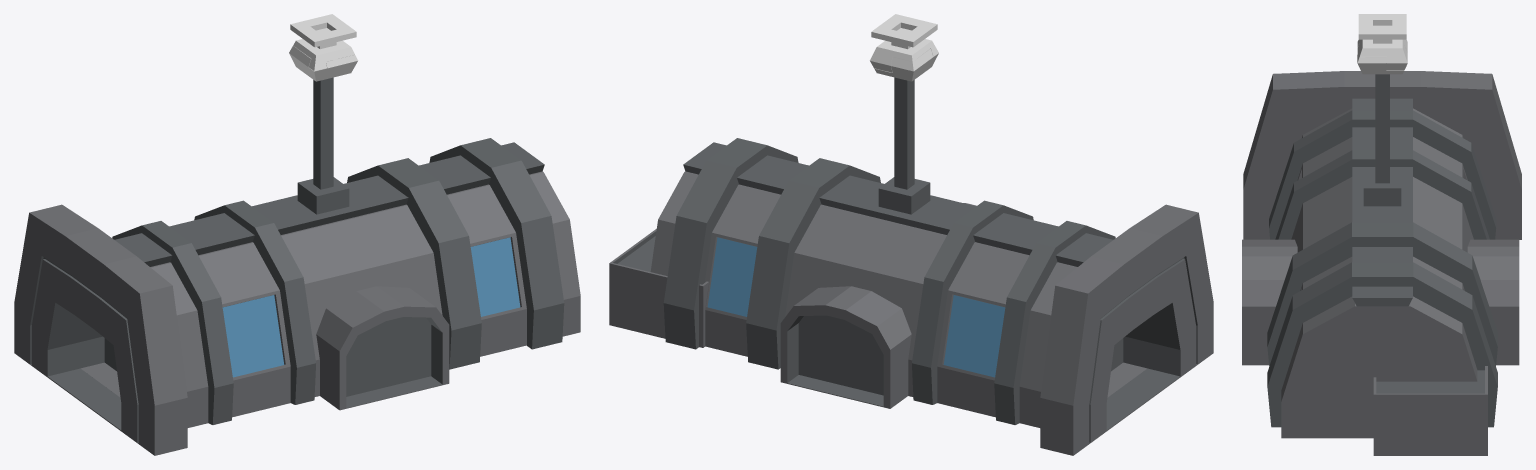
File: NewBarracks.fbx
The picture shows the model from 3 angles, left to right: view 1: azimuth 30°, elevation 25°; view 2: azimuth 150°, elevation 25°; view 3: azimuth 270°, elevation 25°; orthographic projection.
Parts seen in each view (by area): view 1: Cube; view 2: Cube; view 3: Cube.
Boxes of the visible parts, x1,y1,x2,y2 form: Cube: (14,14,580,455); Cube: (609,14,1213,455); Cube: (1242,14,1521,455).
Bounding box in the file's own units: 3.78 × 2.39 × 1.92.
